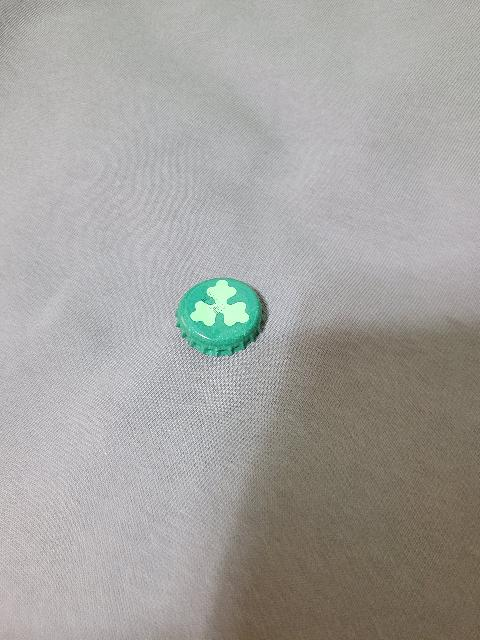Metal: (176, 271, 271, 356)
